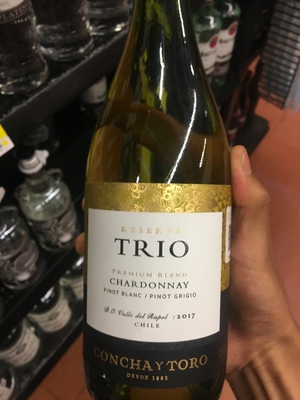trio chardonnay: (73, 19, 248, 400)
